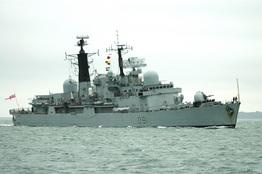warship: (12, 31, 244, 131)
